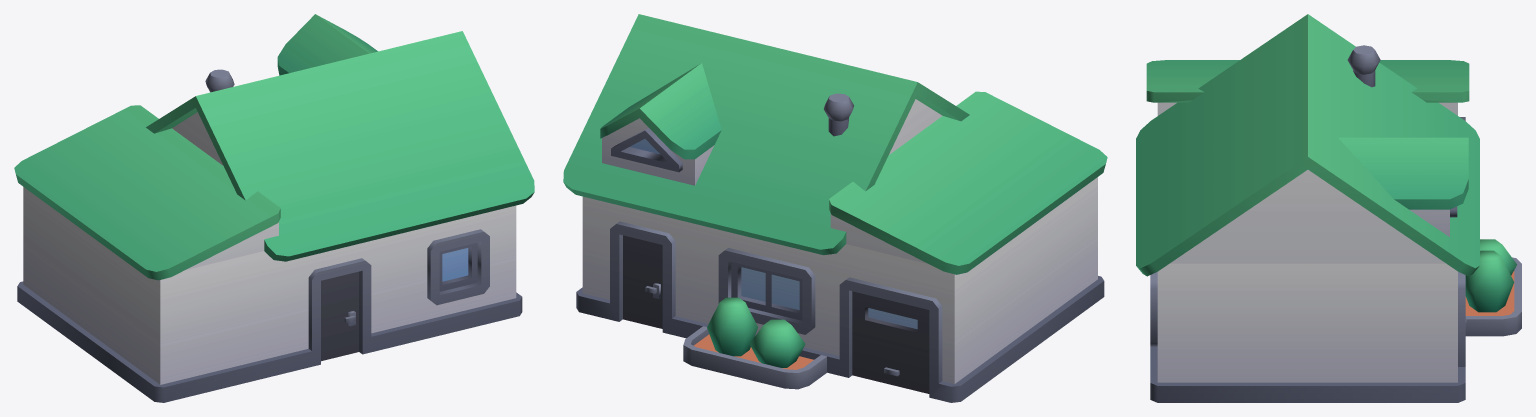
Rendered from sub-building-type-i.glb.
3 renders of one model, left to right at view 1: azimuth 30°, elevation 25°; view 2: azimuth 150°, elevation 25°; view 3: azimuth 270°, elevation 25°, orthographic. The views are drawn at different scales.
Visible parts, largest first — view 1: building-type-i; view 2: building-type-i; view 3: building-type-i.
Boxes of the visible parts, box(x1,y1,x2,y2) form: building-type-i: box(14, 14, 534, 402); building-type-i: box(563, 14, 1107, 402); building-type-i: box(1136, 14, 1521, 402).
Size of the model in its own units: 12.86 by 7.38 by 10.28.
1 material, 1 textured.
